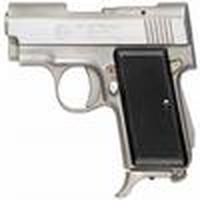gun: (1, 1, 200, 148)
